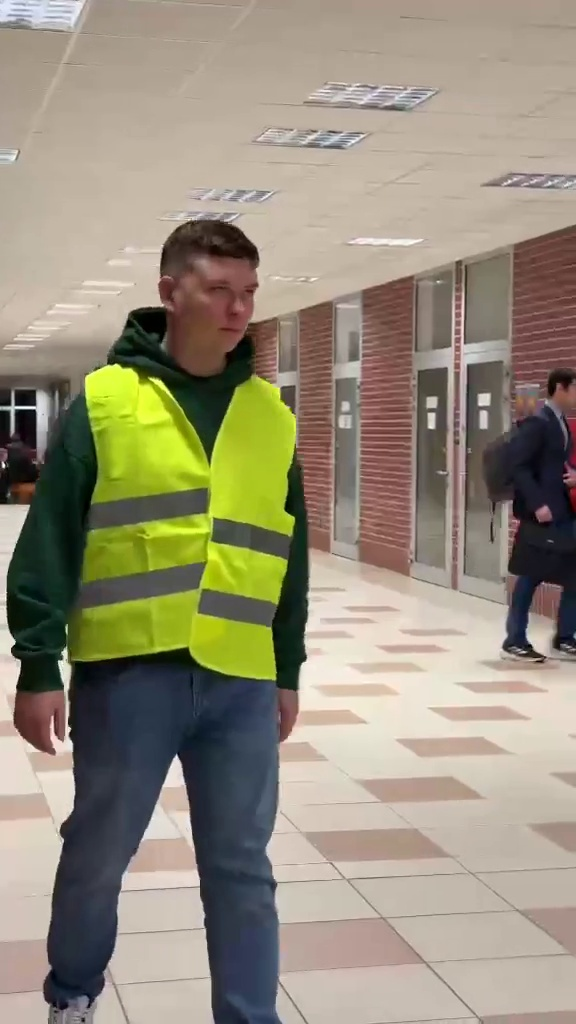no vest: (491, 372, 576, 662)
vest: (10, 217, 318, 1008)
